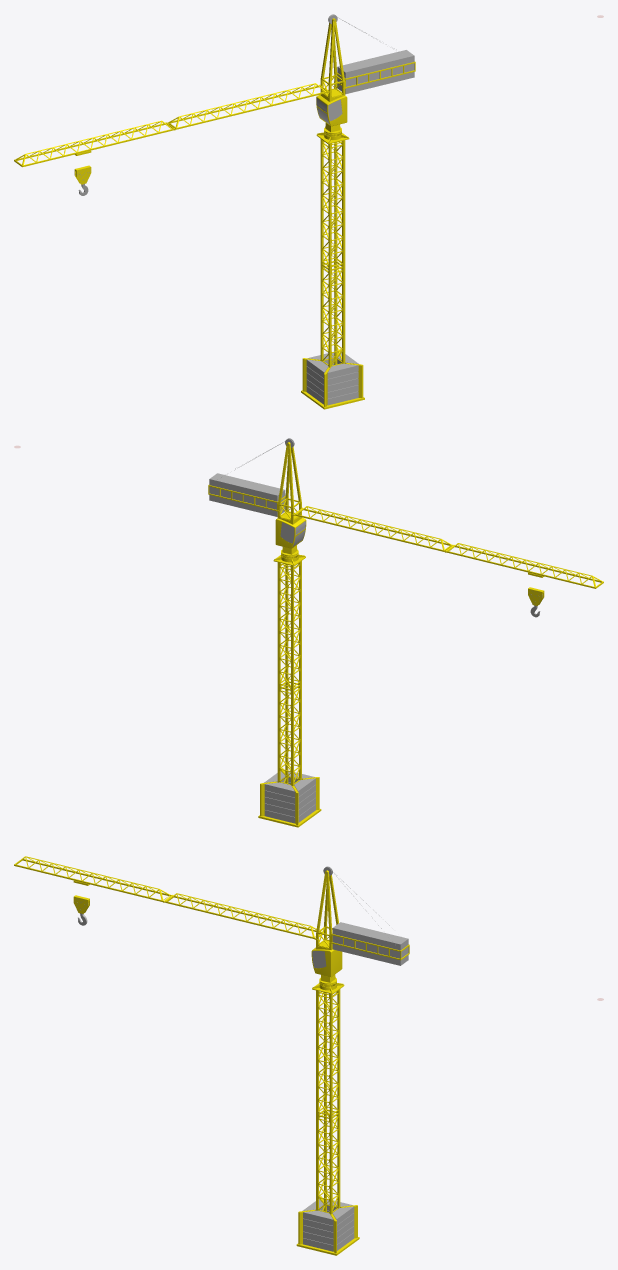
The model's file is kran1_0.glb.
3 views of the same model, one above another, from view 1: azimuth 30°, elevation 25°; view 2: azimuth 150°, elevation 25°; view 3: azimuth 330°, elevation 25° (orthographic).
Parts seen in each view (by area): view 1: ID373, ID500, ID348, ID68; view 2: ID373, ID500, ID348, ID68; view 3: ID500, ID373, ID348, ID68.
Boxes of the visible parts, <box> form: ID373: <box>166,83,328,129</box>; ID500: <box>14,120,175,167</box>; ID348: <box>320,18,344,85</box>; ID68: <box>316,89,347,126</box>; ID373: <box>294,506,453,551</box>; ID500: <box>444,543,603,588</box>; ID348: <box>277,442,301,508</box>; ID68: <box>275,512,306,548</box>; ID500: <box>14,856,173,902</box>; ID373: <box>165,893,323,938</box>; ID348: <box>316,870,338,936</box>; ID68: <box>311,940,342,976</box>.
Bounding box in the file's own units: 49.3 × 30.45 × 3.39.
